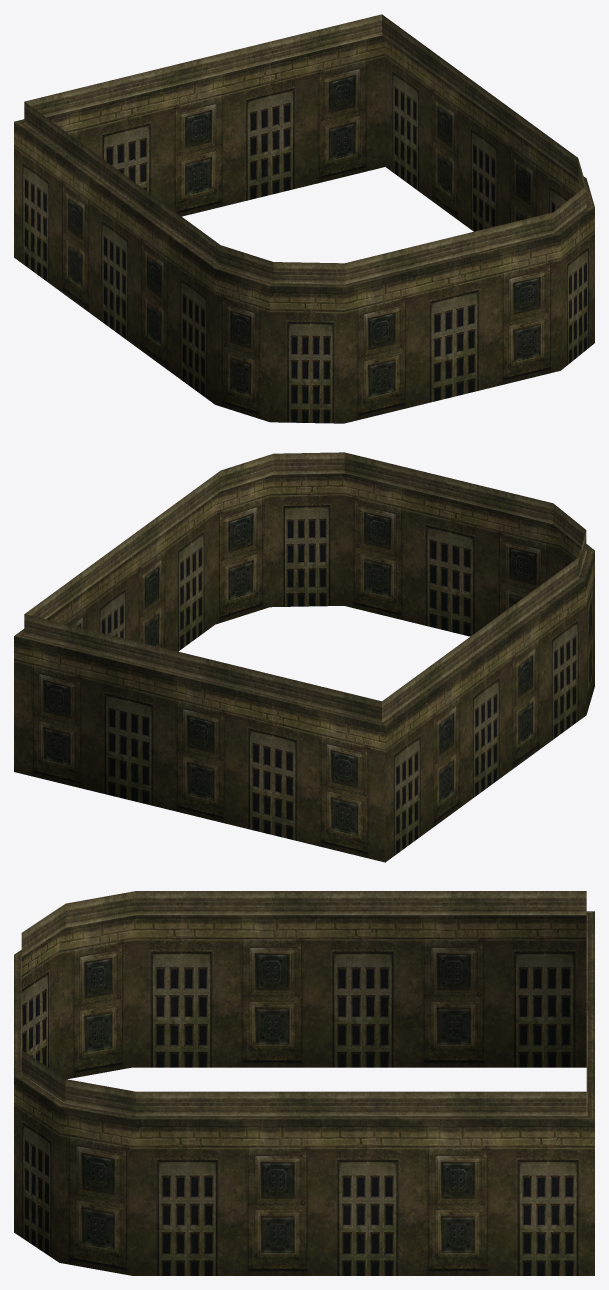
The model's file is mlzd_qm_01.FBX.
3 views of the same model, one above another, from view 1: azimuth 30°, elevation 25°; view 2: azimuth 150°, elevation 25°; view 3: azimuth 270°, elevation 25° (orthographic). The views are drawn at different scales.
Visible parts, largest first — view 1: mlzd_qm_01; view 2: mlzd_qm_01; view 3: mlzd_qm_01.
Part boxes in pixels (<box>): mlzd_qm_01: <box>14,14,594,423</box>; mlzd_qm_01: <box>14,452,594,862</box>; mlzd_qm_01: <box>14,891,594,1275</box>.
Bounding box in the file's own units: 10251 × 4139 × 12082.
